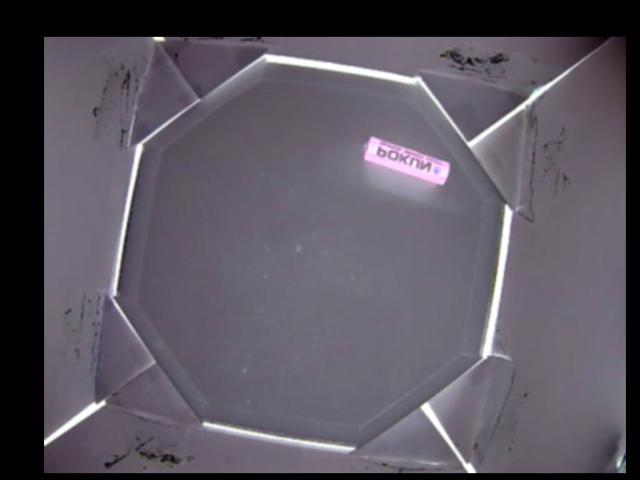Battery: (362, 135, 450, 185)
